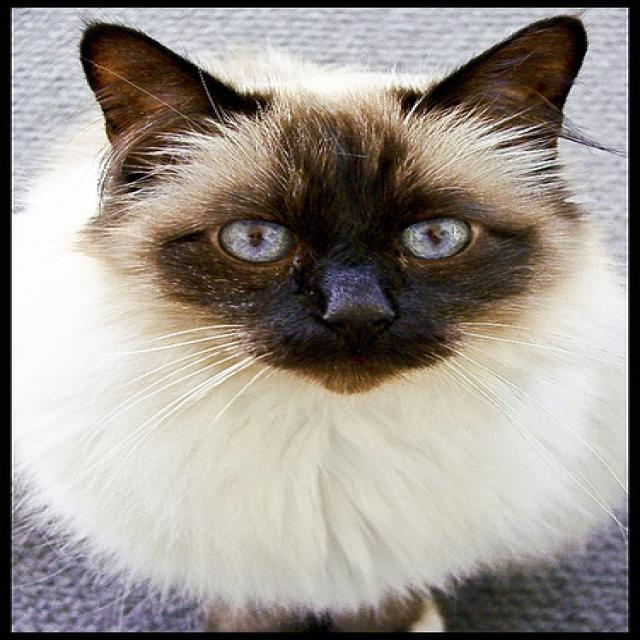Birman: (71, 17, 601, 465)
